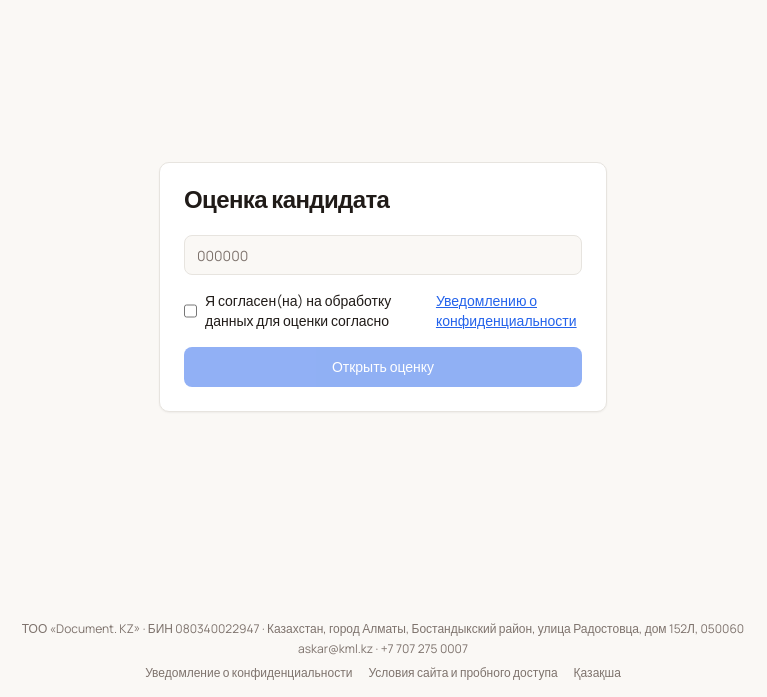
it: candidate assessment public flow › requires consent and submits without showing correct answers
This screenshot has width=767, height=697.
In the field named "PIN": (383, 255) [184,235,582,275], type "123456"
Click the checkbox: (190, 311) [184,291,197,331]
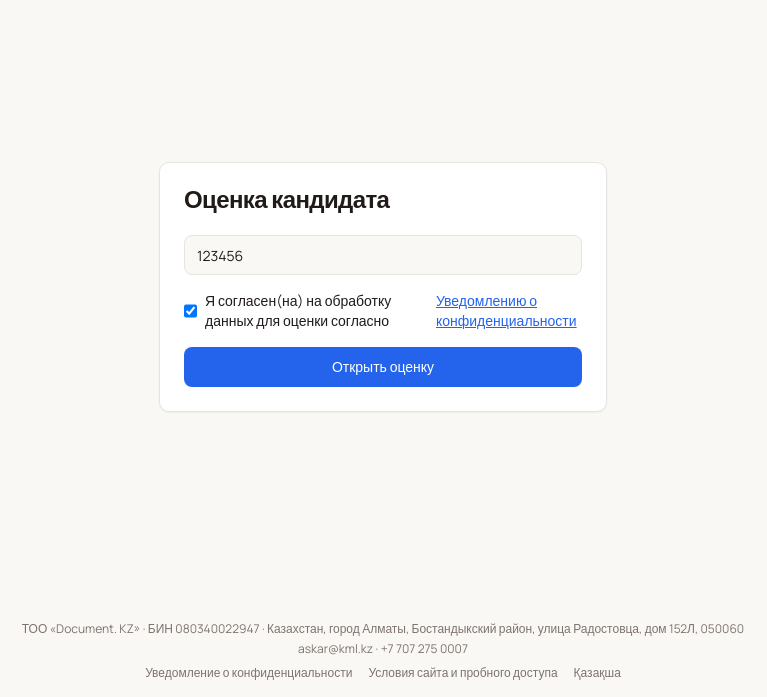
Click the button "Открыть оценку": (383, 367) [184,347,582,387]
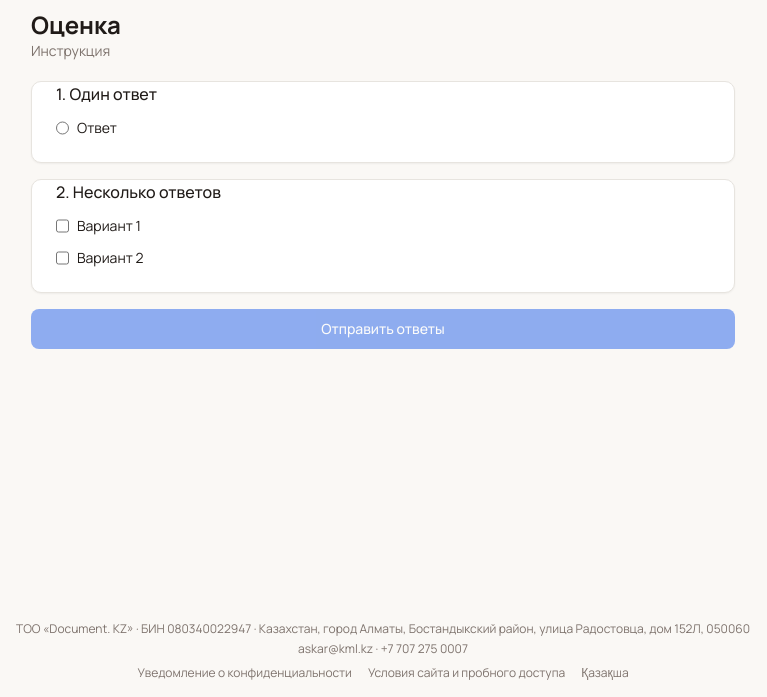
expect the text "1. Один ответ" is shown: met, box [56,83,157,105]
Click the radio button: (62, 128) [56,118,69,138]
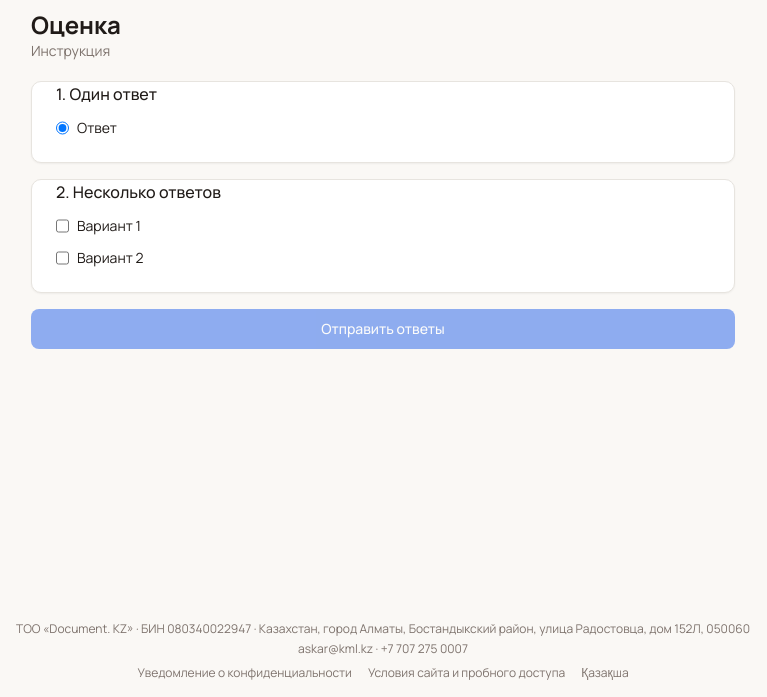
Click the checkbox labelled "Вариант 1": (62, 226) [56,216,69,236]
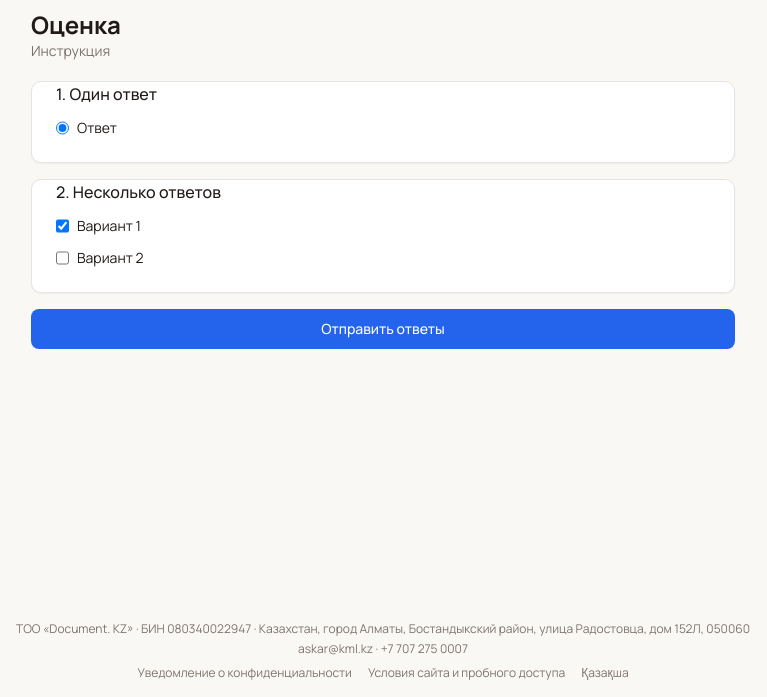
Click the checkbox labelled "Вариант 2": (62, 258) [56,248,69,268]
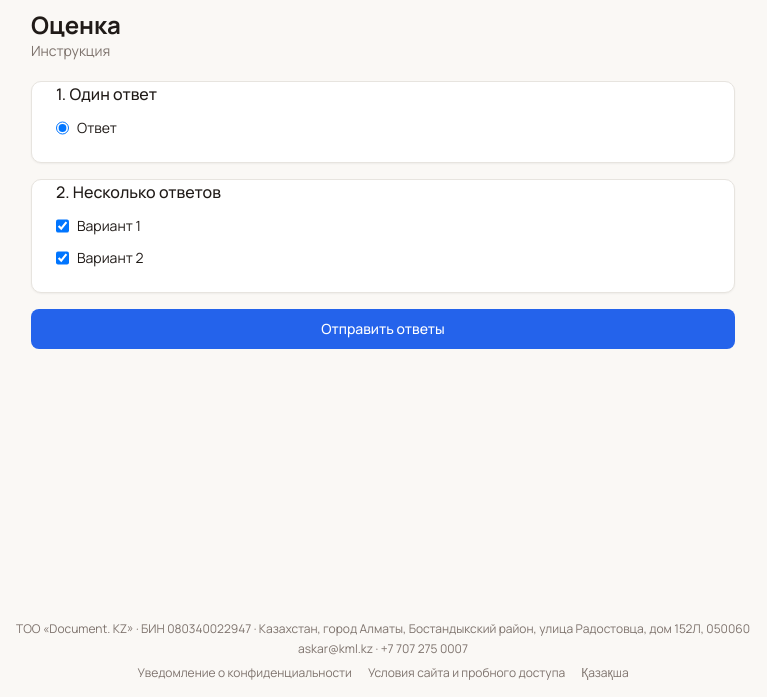
Click the button "Отправить ответы": (383, 329) [31,309,735,349]
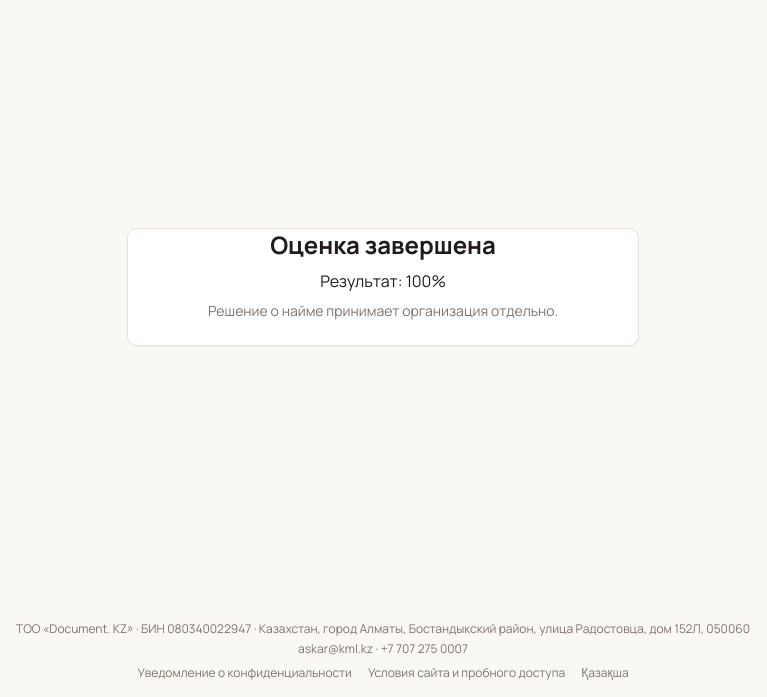
expect the text "Результат: 100%" is shown: met, box [320,270,446,292]
